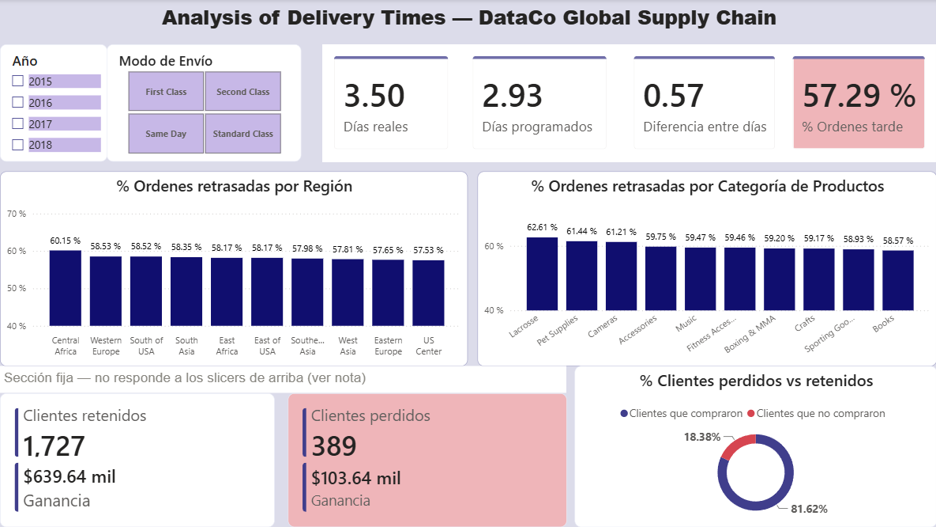

What the dashboard file says about the page in this screenshot:
{"tool":"powerbi","page":{"name":"Página 1","canvas":[1280,720],"ordinal":0},"visuals":[{"type":"clusteredColumnChart","title":"% Ordenes retrasadas por Región","fields":{"Category":["vw_PowerBI_SupplyChain.Order_Region"],"Y":["_Medidas.% late orders"]},"box":[0,234.9,639.4,265.8],"z":0},{"type":"clusteredColumnChart","title":"% Ordenes retrasadas por Categoría de Productos","fields":{"Category":["vw_PowerBI_SupplyChain.Category_Name"],"Y":["_Medidas.% late orders"]},"box":[652.5,234.8,627.8,265.8],"z":1000},{"type":"textbox","box":[1.6,0,1279.2,48.6],"z":2000},{"type":"group","id":"g1","title":"Grupo 1","box":[440.4,61.5,840.4,160.3],"z":3000},{"type":"cardVisual","fields":{"Data":["_Medidas.AVG_real_days"]},"box":[440.4,61.5,188.4,159.2],"z":3000,"group":"g1"},{"type":"slicer","fields":{"Values":["Calendario.YEAR"]},"box":[0,61.6,146.4,159.8],"z":4000},{"type":"cardVisual","fields":{"Data":["_Medidas.AVG_scheduled"]},"box":[630,61.6,215.7,159.8],"z":4000,"group":"g1"},{"type":"slicer","fields":{"Values":["vw_PowerBI_SupplyChain.Shipping_Mode"]},"box":[146.4,61.6,265.8,159.8],"z":5000},{"type":"cardVisual","fields":{"Data":["_Medidas.Days_difference"]},"box":[849.6,61.6,225.3,159.8],"z":5000,"group":"g1"},{"type":"cardVisual","fields":{"Data":["_Medidas.% late orders"]},"box":[1067.2,61.6,213.8,159.8],"z":6000,"group":"g1"},{"type":"cardVisual","fields":{"Data":["_Medidas.Retained Customers","_Medidas.Profit from retained customers"]},"box":[0,537.3,375.5,183],"z":6000},{"type":"textbox","box":[0,500.7,774.2,36.6],"z":7000},{"type":"cardVisual","fields":{"Data":["_Medidas.Lost Customers","_Medidas.Profit from lost customers"]},"box":[392.9,537.3,381.3,183],"z":8000},{"type":"donutChart","title":" % Clientes perdidos vs retenidos","fields":{"Y":["_Medidas.Customers"],"Category":["Customers_cancel.Estado Cliente"]},"box":[785.3,500.3,495.5,220.2],"z":9000}]}

Visuals, with their boxes in screenshot pixels (x1, y1, x2, y2), scaled from the page's 1280x720 canvas onto the 936x527 screenshot:
"% Ordenes retrasadas por Región" clusteredColumnChart: x1=0 y1=172 x2=468 y2=366
"% Ordenes retrasadas por Categoría de Productos" clusteredColumnChart: x1=477 y1=172 x2=935 y2=366
textbox: x1=1 y1=0 x2=935 y2=36
"Grupo 1" group: x1=322 y1=45 x2=935 y2=162
cardVisual - _Medidas.AVG_real_days: x1=322 y1=45 x2=460 y2=162
slicer - Calendario.YEAR: x1=0 y1=45 x2=107 y2=162
cardVisual - _Medidas.AVG_scheduled: x1=461 y1=45 x2=618 y2=162
slicer - vw_PowerBI_SupplyChain.Shipping_Mode: x1=107 y1=45 x2=301 y2=162
cardVisual - _Medidas.Days_difference: x1=621 y1=45 x2=786 y2=162
cardVisual - _Medidas.% late orders: x1=780 y1=45 x2=935 y2=162
cardVisual - _Medidas.Retained Customers x _Medidas.Profit from retained customers: x1=0 y1=393 x2=275 y2=526
textbox: x1=0 y1=366 x2=566 y2=393
cardVisual - _Medidas.Lost Customers x _Medidas.Profit from lost customers: x1=287 y1=393 x2=566 y2=526
" % Clientes perdidos vs retenidos" donutChart: x1=574 y1=366 x2=935 y2=526
